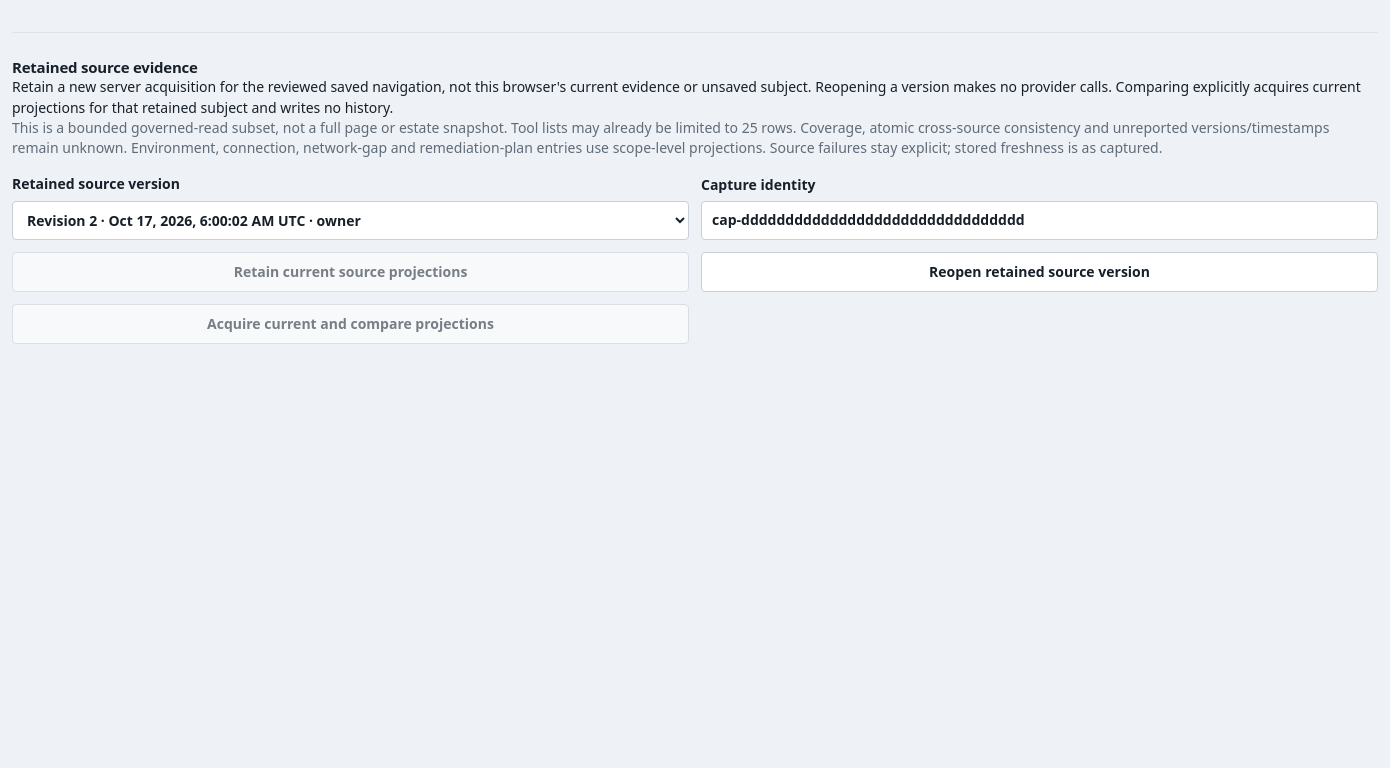
retained investigation source evidence › reopens exactly the reviewed version with explicit source coverage and no current acquisition
Click the button "Reopen retained source version" at [1040, 272], box [701,252,1378,292]
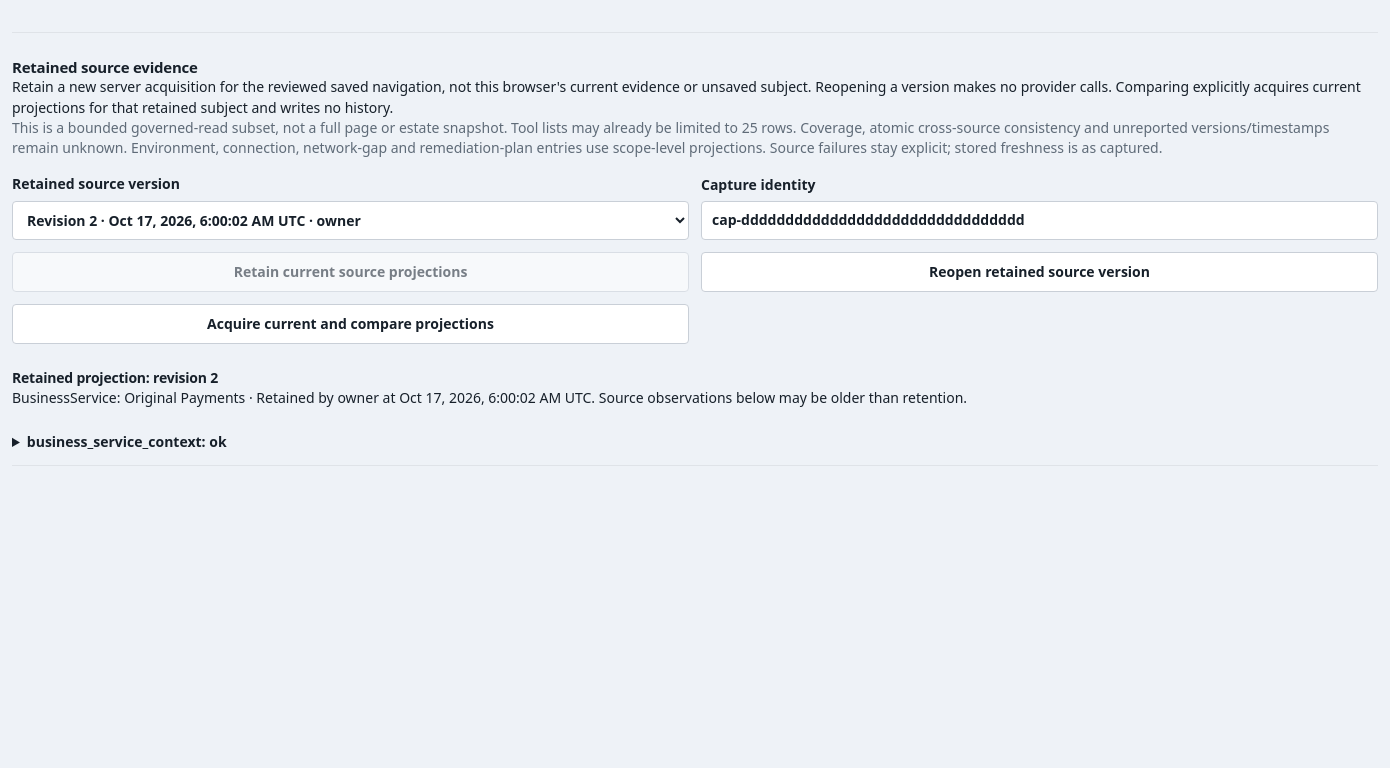
Expected: the heading "Retained projection: revision 2" is shown, [12,368,218,387]
Expected: the text "Original Payments" is shown, [124,388,245,407]
Click the heading "business_service_context: ok" at [127, 442], box [27,432,227,451]
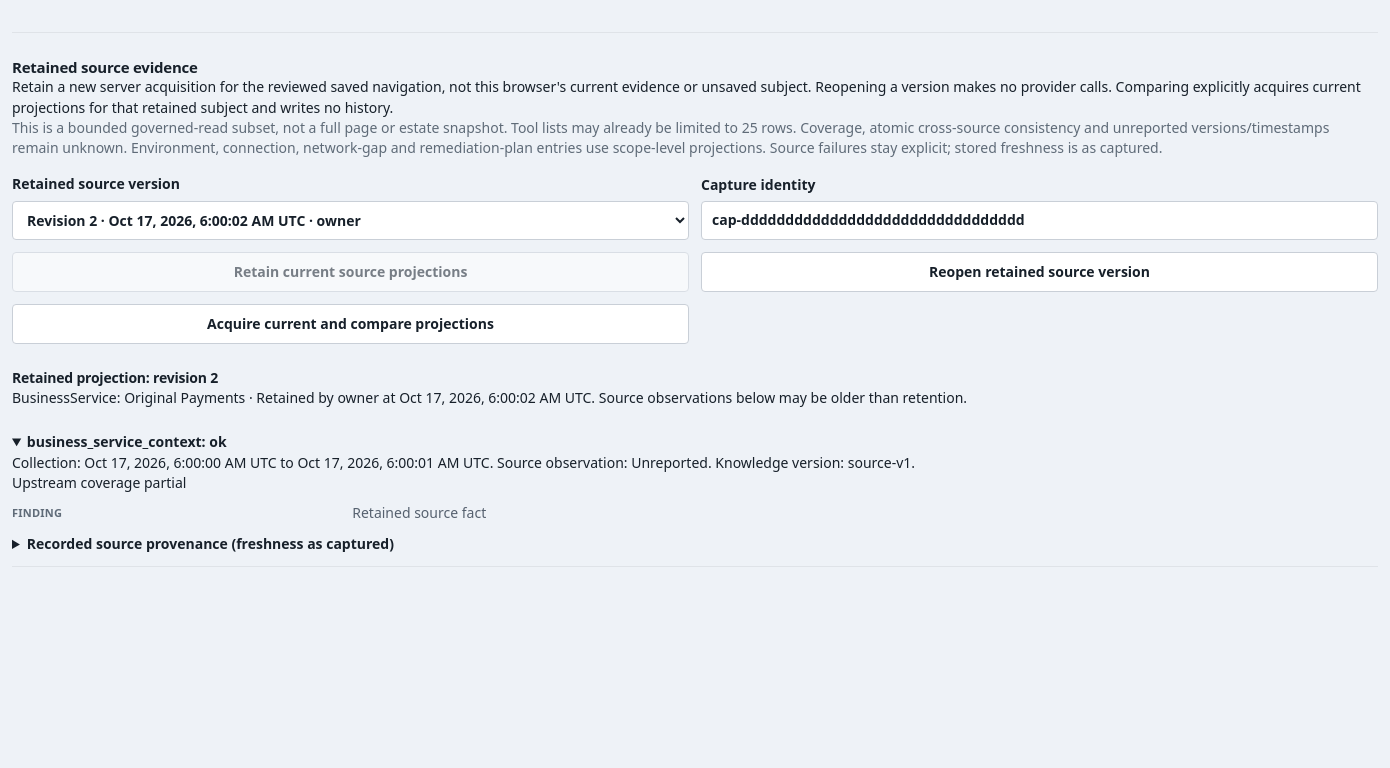
Expected: the text "Retained source fact" is shown, [352,503,486,522]
Expected: the text "Source observation: Unreported" is shown, [12,453,915,472]
Expected: the text "Upstream coverage partial" is shown, [12,473,186,492]
